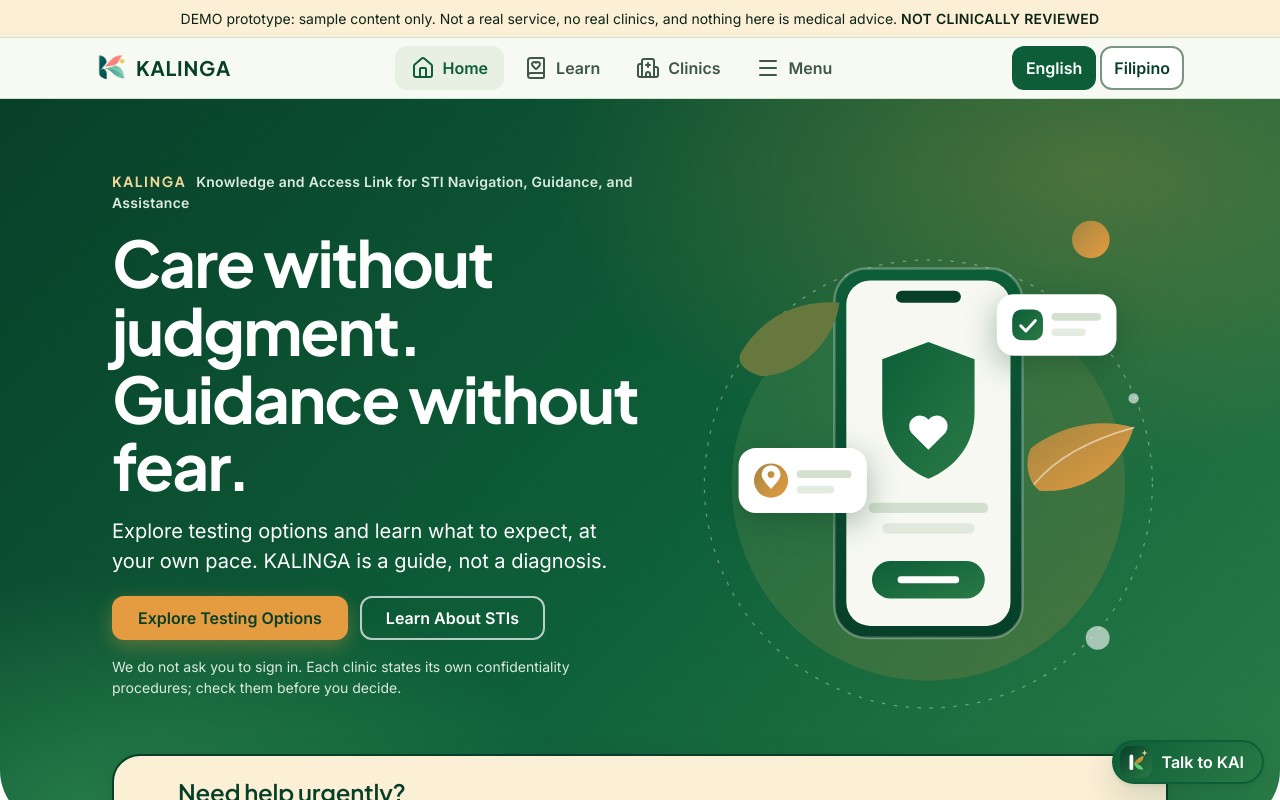
it: dialog behaviour › opens a labelled, non-modal DEMO dialog and moves focus into it
Step 1. Click the button "Talk to KAI" → (1188, 762), box top-left (1112, 740), bottom-right (1264, 784)
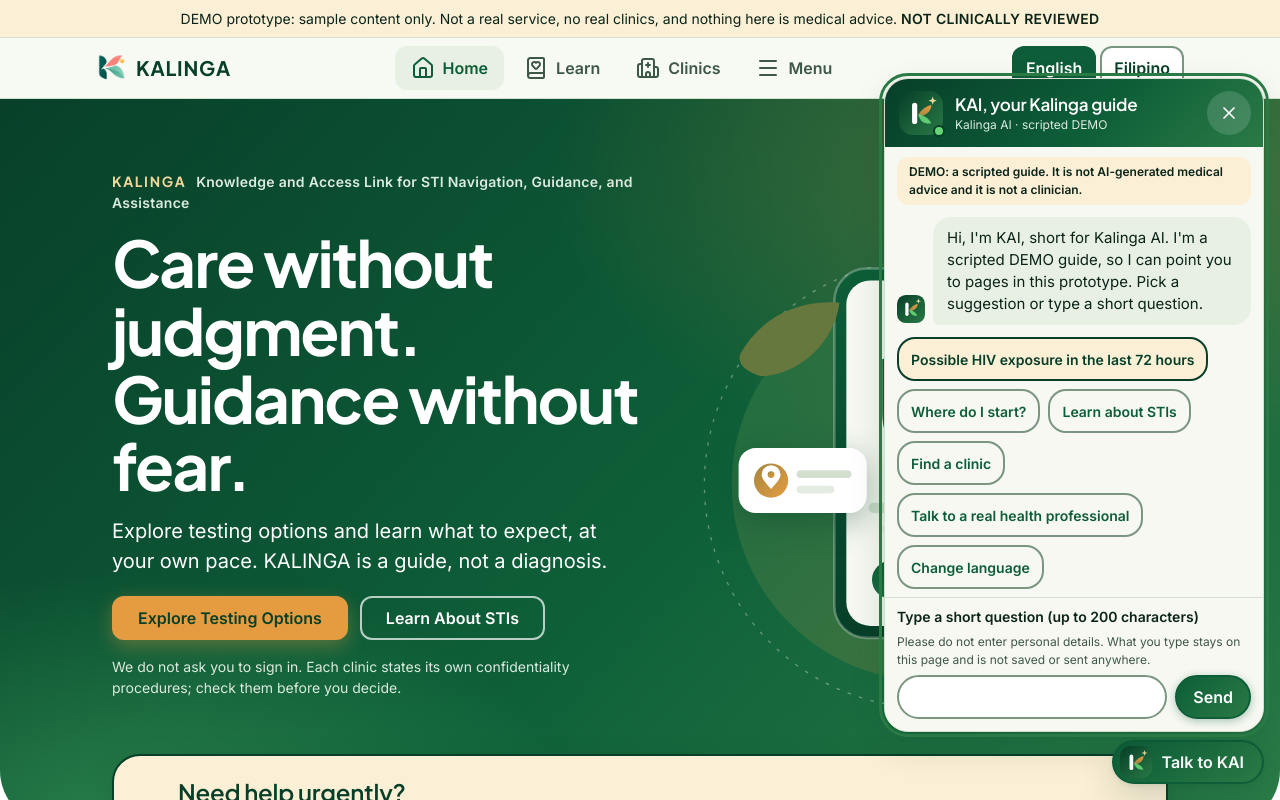
Expected: the text "do not enter personal details" is shown, top-left (897, 634), bottom-right (1240, 667)
